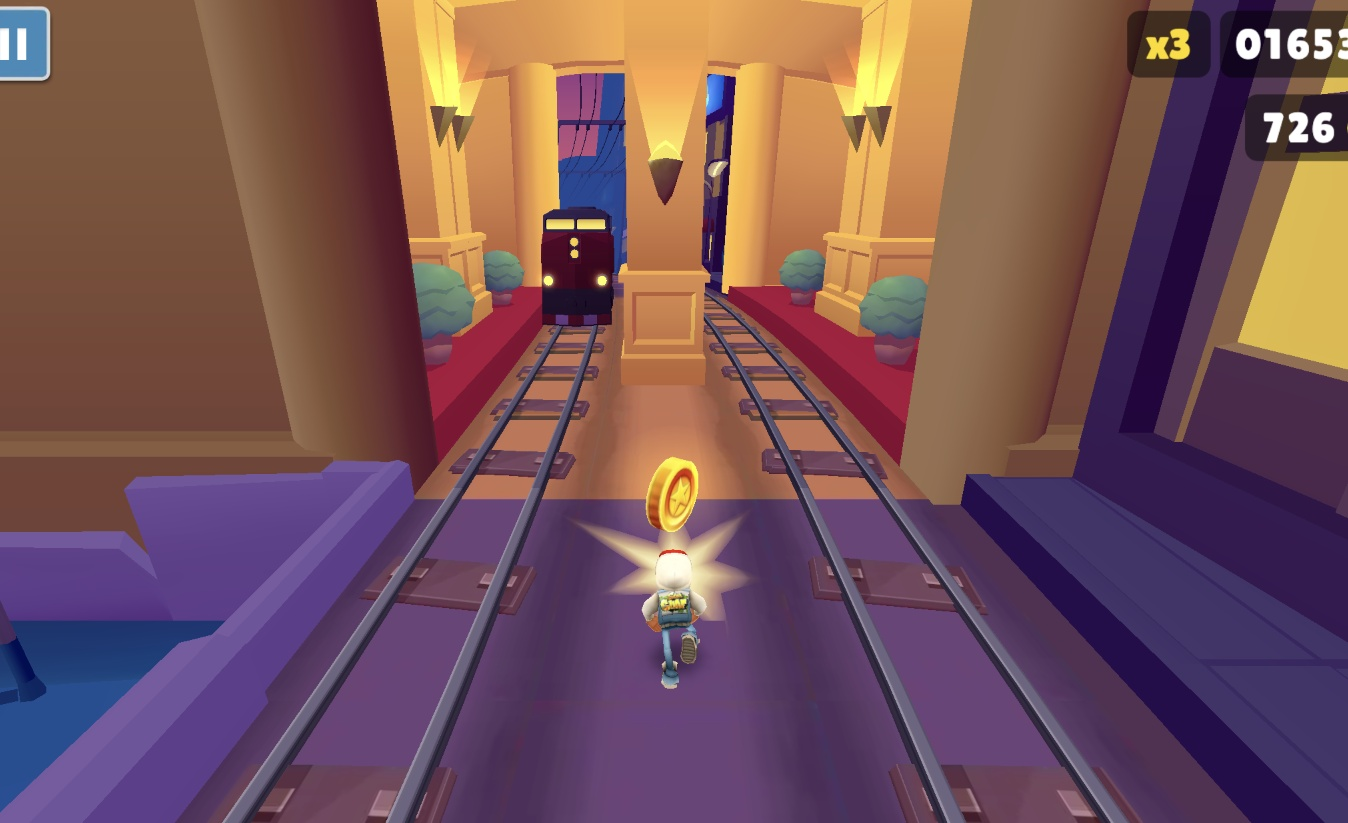pillar: (603, 0, 738, 470)
train: (539, 210, 613, 363)
